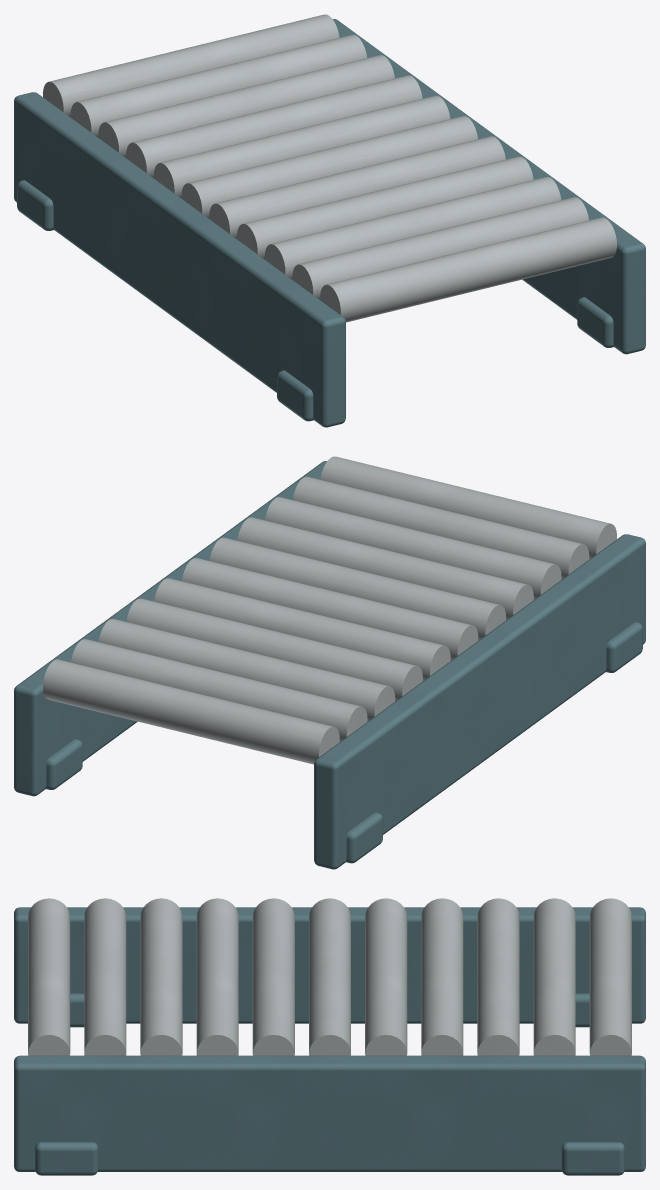
Rendered from gorgehold-survivor-gallery-and-operations-transfer-loa-3a186cc3__32892.glb.
3 views of the same model, one above another, from view 1: azimuth 30°, elevation 25°; view 2: azimuth 150°, elevation 25°; view 3: azimuth 270°, elevation 25° (orthographic).
Visible parts, largest first — view 1: transfer-loading-roller-bed; view 2: transfer-loading-roller-bed; view 3: transfer-loading-roller-bed.
Part boxes in pixels (x1=…): transfer-loading-roller-bed: x1=14, y1=14, x2=645, y2=427; transfer-loading-roller-bed: x1=14, y1=456, x2=645, y2=869; transfer-loading-roller-bed: x1=14, y1=898, x2=645, y2=1175.
Size of the model in its own units: 1.13 by 0.3999 by 1.8.
Materials: 2 (2 with a texture image).
